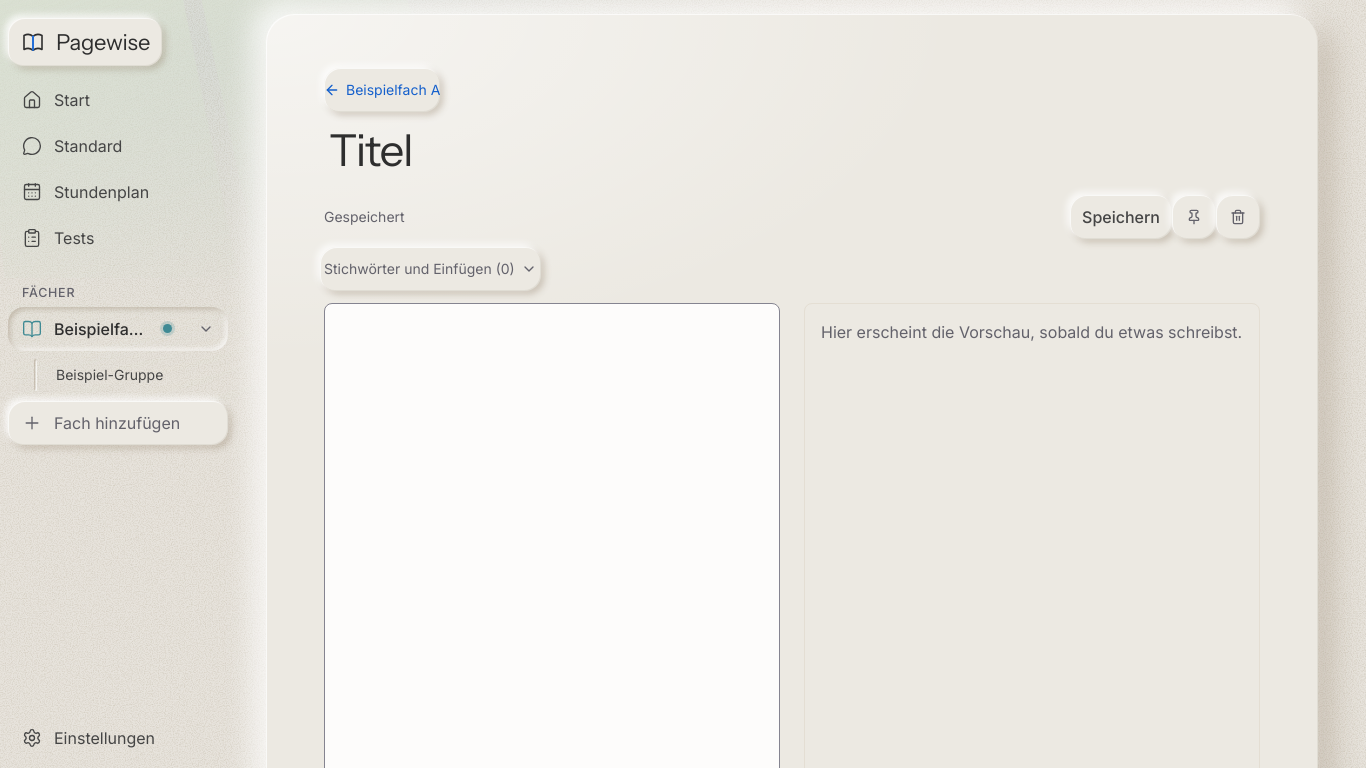
it: Editor › lehnt einen leeren Titel ab und speichert dann nicht
This screenshot has width=1366, height=768.
Clear the 1st text box named "Titel" at (792, 150), box left=324, top=120, right=1260, bottom=181
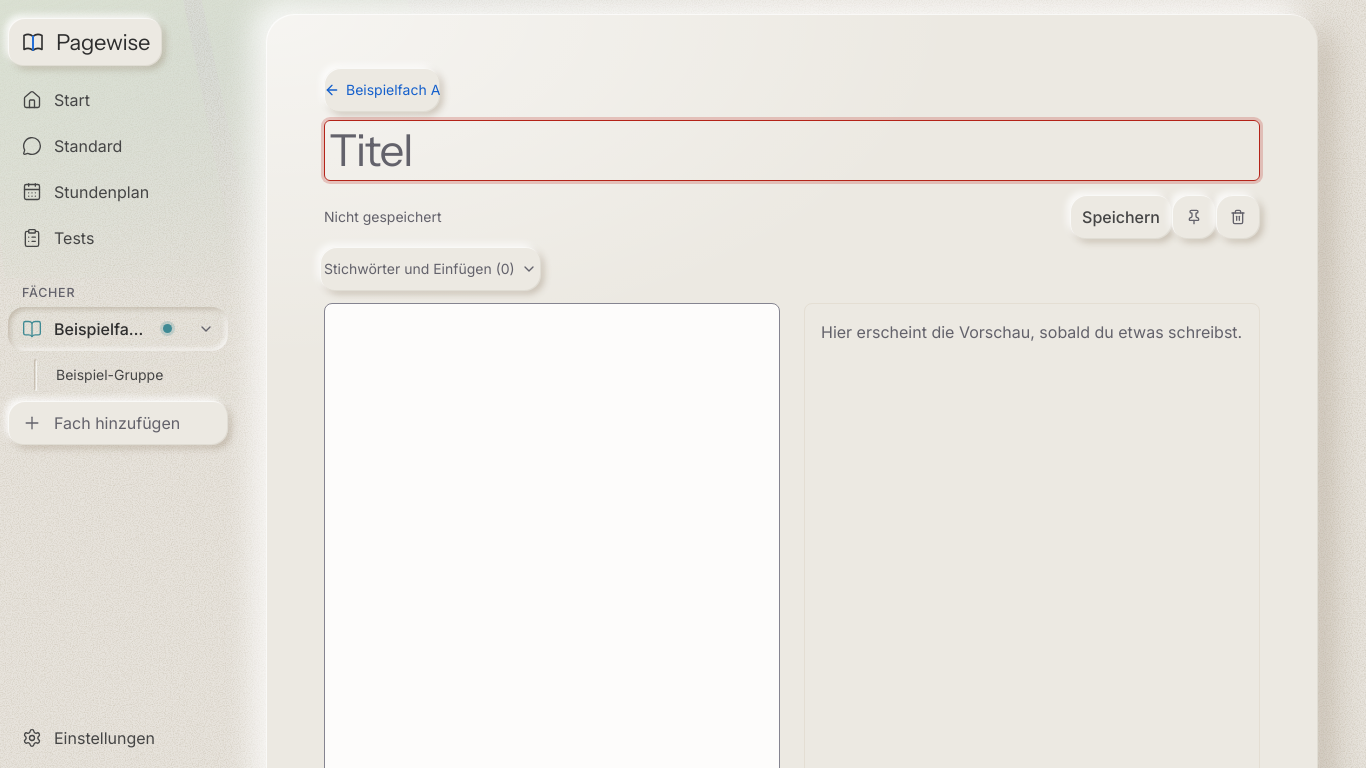
Click the button "Speichern" at (1121, 217), box left=1070, top=195, right=1172, bottom=239
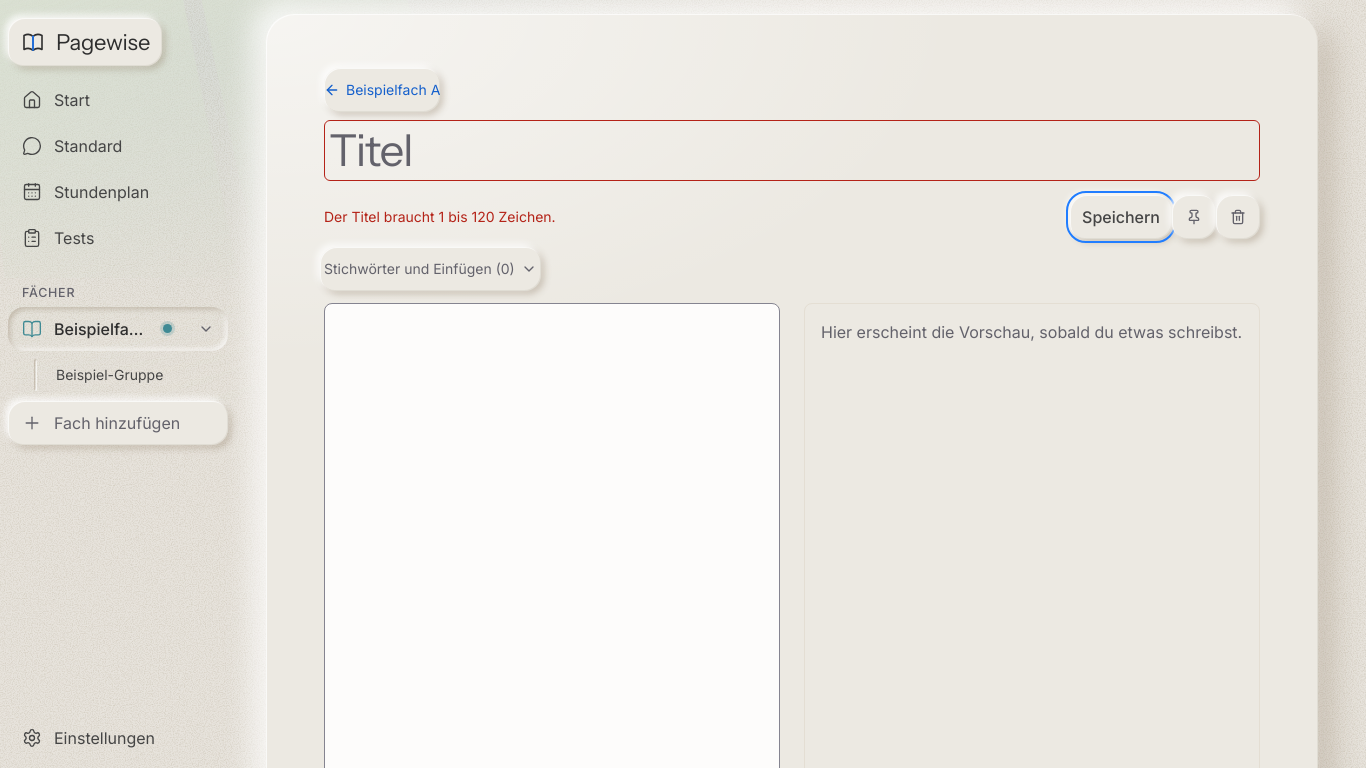
Now the text "Der Titel braucht 1 bis 120 Zeichen." is shown, box left=324, top=207, right=556, bottom=227
